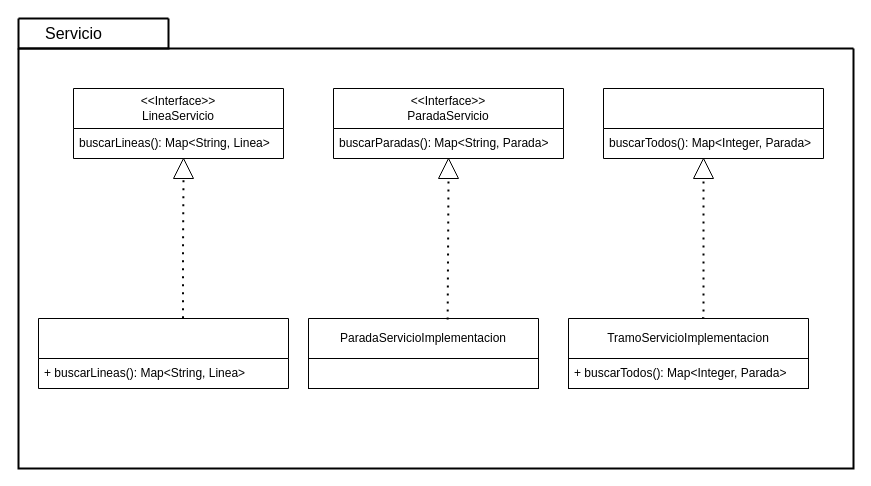
Some shapes in this 871 by 486 pixel diagram are drawn without their labels. Here are the shapes that lost their labels. From the top down, the box of each, then its label:
(602, 88, 824, 158): <<Interface>> TramoServicio
(38, 318, 288, 388): LineaServicioImplementacion
(308, 358, 538, 388): + buscarParadas(): Map<String, Parada>
